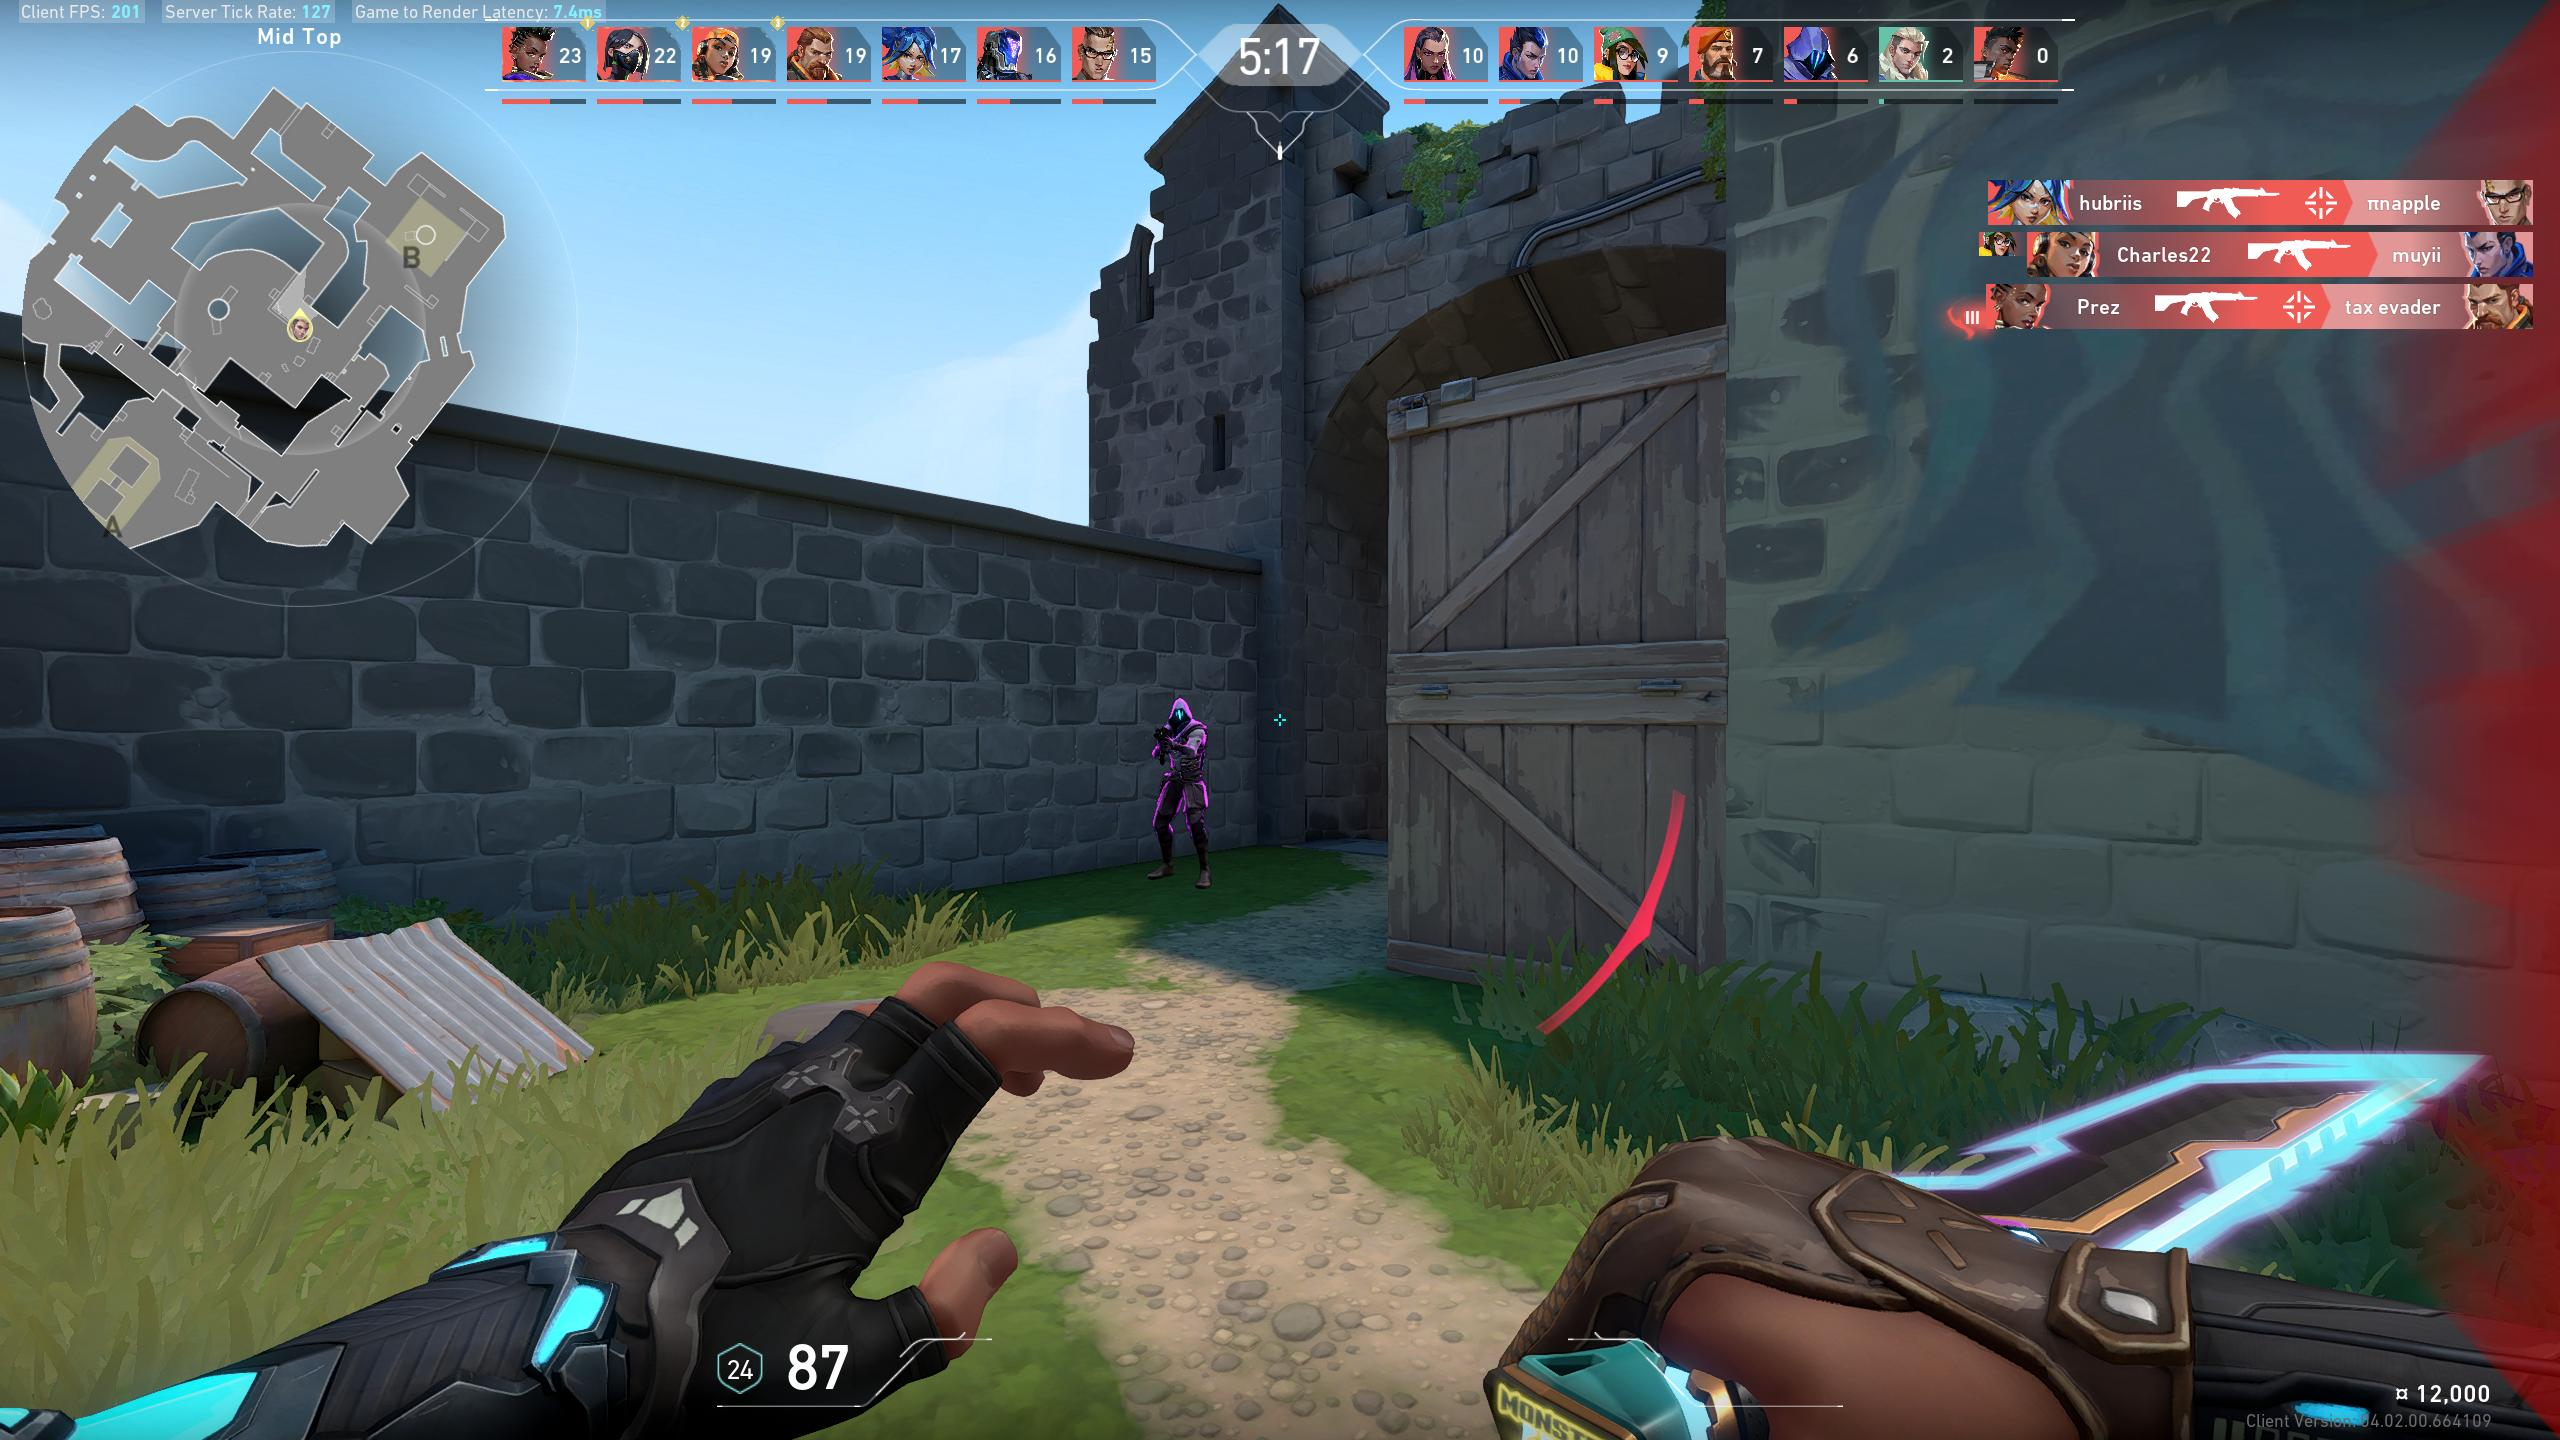enemyBody: (1169, 726, 1197, 768)
enemyHead: (1173, 703, 1187, 724)
